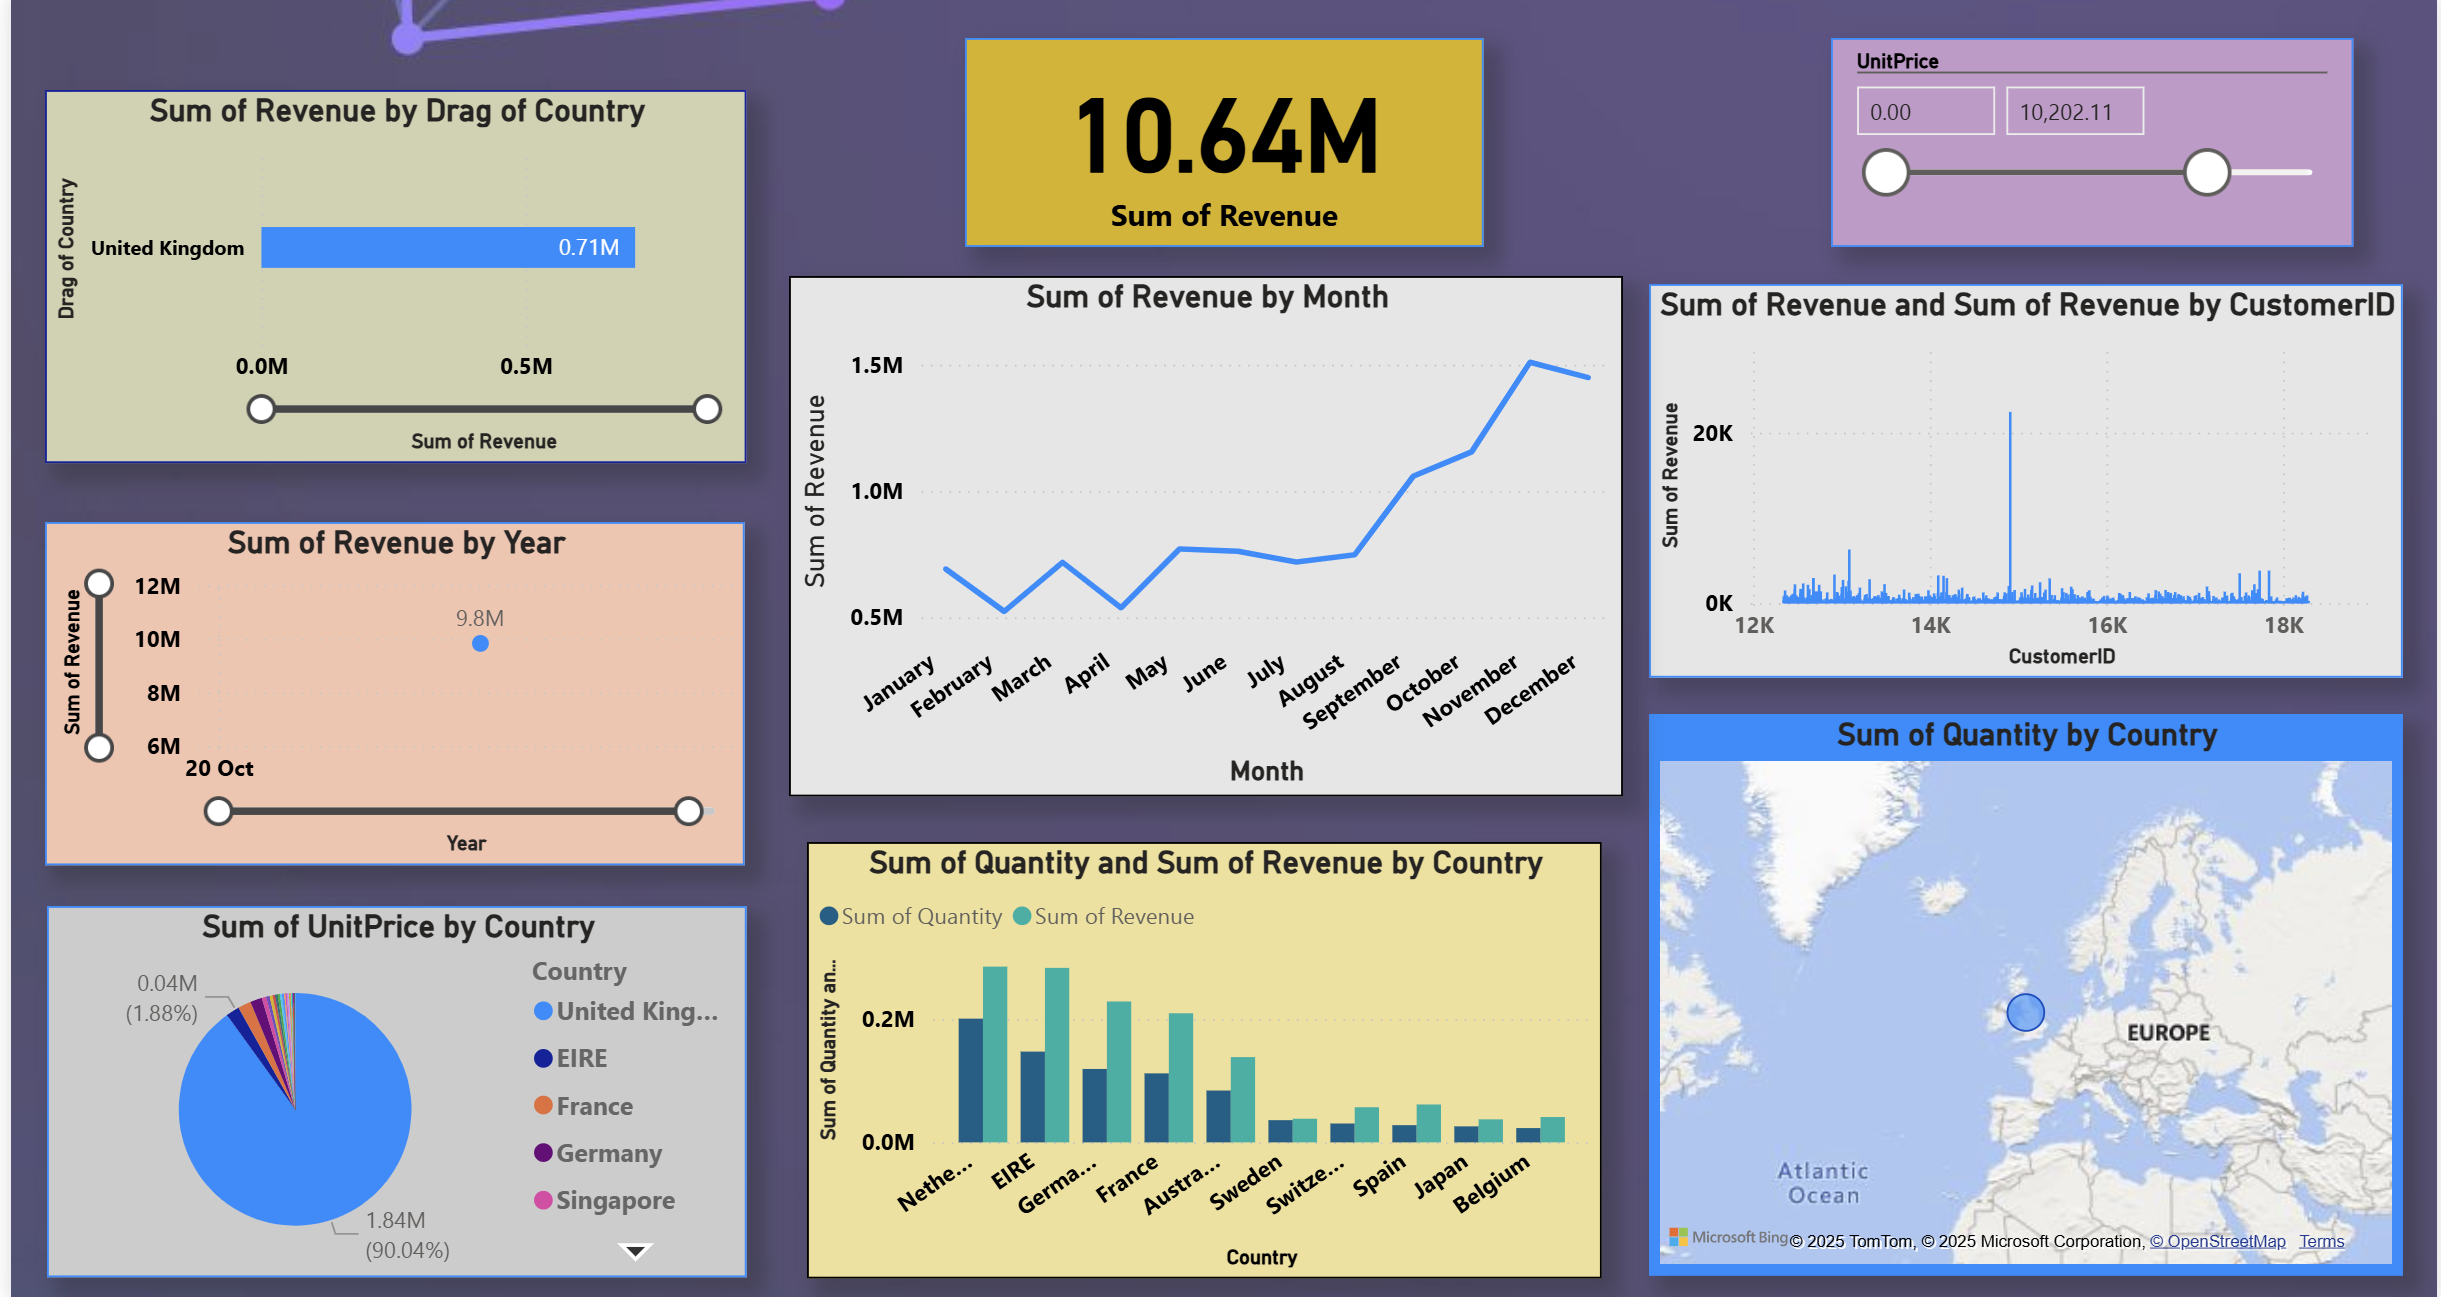

What the dashboard file says about the page in this screenshot:
{"tool":"powerbi","page":{"name":"Final_report","canvas":[1300,700],"ordinal":4},"visuals":[{"type":"barChart","fields":{"Category":["Online Retail.Country"],"Y":["Sum(Online Retail.Revenue)"]},"box":[18,50,376,200],"z":0},{"type":"lineChart","fields":{"Category":["Online Retail.InvoiceDate.Variation.Date Hierarchy.Year","Online Retail.InvoiceDate.Variation.Date Hierarchy.Month"],"Y":["Sum(Online Retail.Revenue)"]},"box":[18,282,375,184],"z":1000},{"type":"clusteredColumnChart","fields":{"Y":["Sum(Online Retail.Revenue)","Sum(Online Retail.Revenue)"],"Category":["Online Retail.CustomerID"]},"box":[878,154,404,211],"z":2000},{"type":"map","fields":{"Category":["Online Retail.Country"],"Size":["Sum(Online Retail.Quantity)"]},"box":[878,385,404,301],"z":3000},{"type":"pieChart","fields":{"Y":["Sum(Online Retail.UnitPrice)"],"Category":["Online Retail.Country"]},"box":[19,488,375,199],"z":4000},{"type":"card","fields":{"Values":["Sum(Online Retail.Revenue)"]},"box":[511,23,278,112],"z":5000},{"type":"slicer","fields":{"Values":["Online Retail.UnitPrice"]},"box":[976,23,280,112],"z":6000},{"type":"clusteredColumnChart","fields":{"Y":["Sum(Online Retail.Quantity)","Sum(Online Retail.Revenue)"],"Category":["Online Retail.Country"]},"box":[427,453,426,234],"z":7001},{"type":"lineChart","fields":{"Y":["Sum(Online Retail.Revenue)"],"Category":["Online Retail.InvoiceDate.Variation.Date Hierarchy.Month"]},"box":[417,150,447,279],"z":7002}]}

Visuals, with their boxes in screenshot pixels (x1, y1, x2, y2), scaled from the page's 1300x700 canvas onto the 2441x1297 screenshot:
barChart - Online Retail.Country x Sum(Online Retail.Revenue): [34, 93, 740, 463]
lineChart - Online Retail.InvoiceDate.Variation.Date Hierarchy.Year x Online Retail.InvoiceDate.Variation.Date Hierarchy.Month: [34, 523, 738, 863]
clusteredColumnChart - Sum(Online Retail.Revenue) x Sum(Online Retail.Revenue): [1649, 285, 2407, 676]
map - Online Retail.Country x Sum(Online Retail.Quantity): [1649, 713, 2407, 1271]
pieChart - Sum(Online Retail.UnitPrice) x Online Retail.Country: [36, 904, 740, 1273]
card - Sum(Online Retail.Revenue): [960, 43, 1481, 250]
slicer - Online Retail.UnitPrice: [1833, 43, 2358, 250]
clusteredColumnChart - Sum(Online Retail.Quantity) x Sum(Online Retail.Revenue): [802, 839, 1602, 1273]
lineChart - Sum(Online Retail.Revenue) x Online Retail.InvoiceDate.Variation.Date Hierarchy.Month: [783, 278, 1622, 795]
